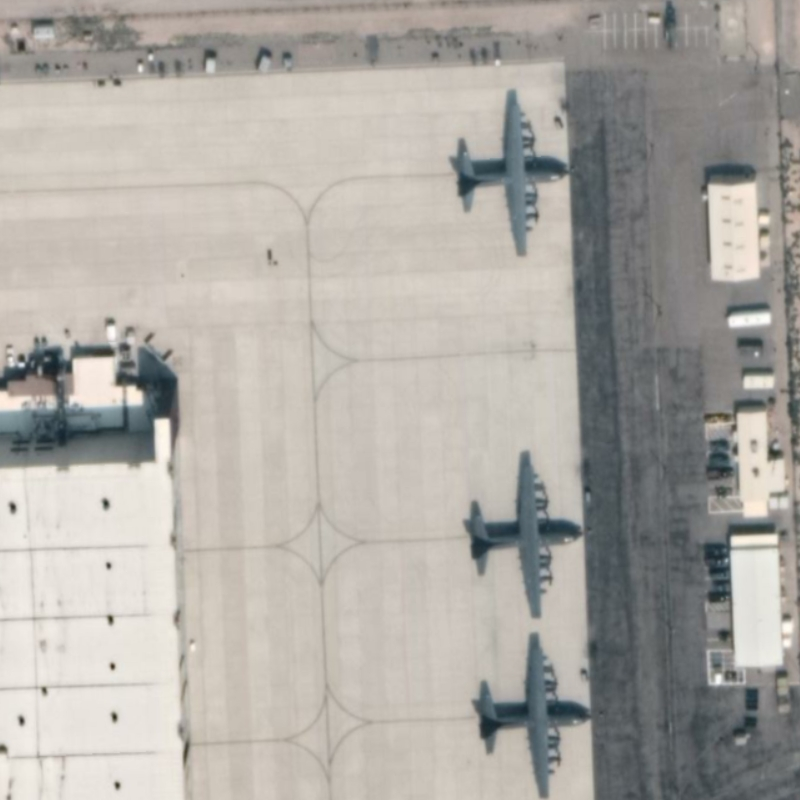A2: (459, 447, 587, 624), (446, 93, 576, 262), (470, 628, 597, 800)
